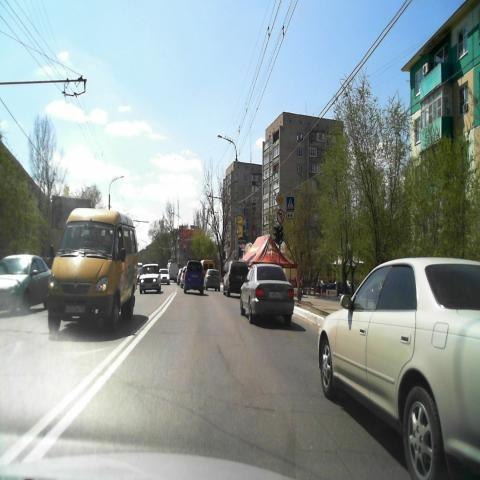3_18_2: (276, 209, 284, 224)
